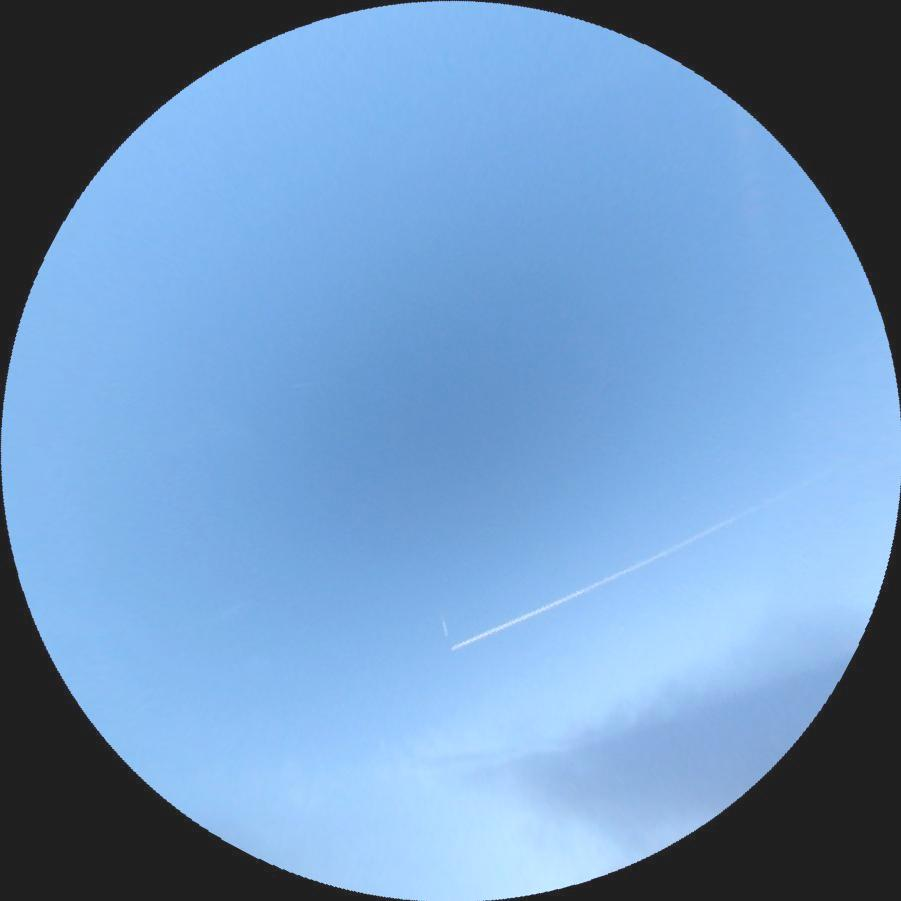contrail old: (447, 461, 845, 656)
unknow: (290, 380, 318, 388), (439, 617, 449, 638)
